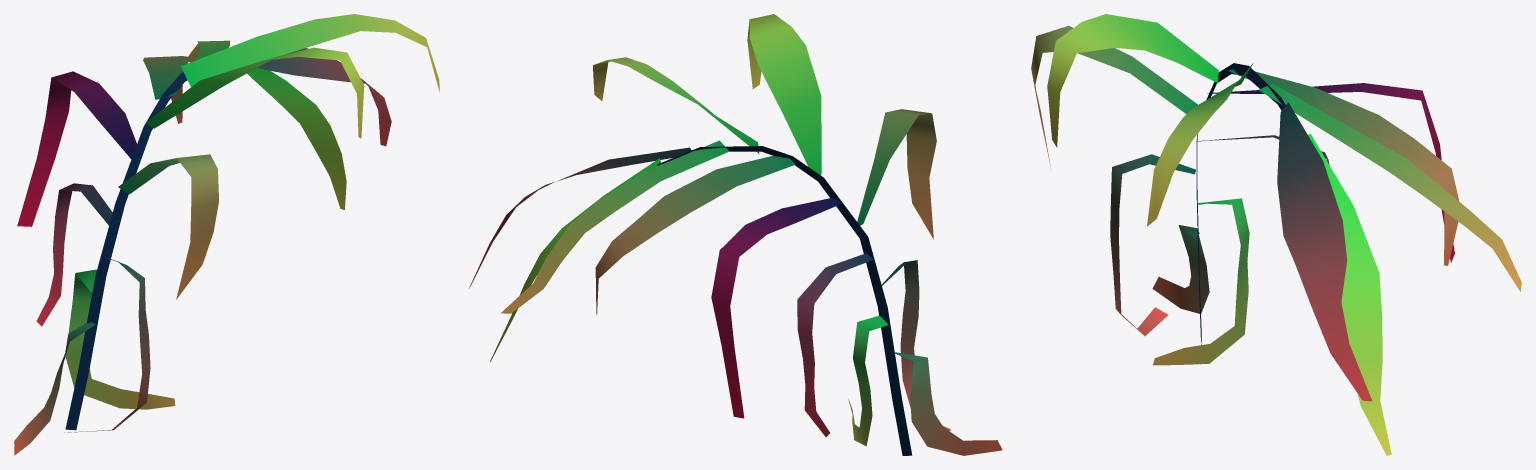
File: Ginger_Plant_sgbmM_Low_sgbmM_VarC_LOD0.fbx
The picture shows the model from 3 angles, left to right: view 1: azimuth 30°, elevation 25°; view 2: azimuth 150°, elevation 25°; view 3: azimuth 270°, elevation 25°; orthographic projection. The views are drawn at different scales.
Parts seen in each view (by area): view 1: _c9fe_VarC_LOD2; view 2: _c9fe_VarC_LOD2; view 3: _c9fe_VarC_LOD2.
Boxes of the visible parts, box(x1,y1,x2,y2) form: _c9fe_VarC_LOD2: box(14, 14, 439, 455); _c9fe_VarC_LOD2: box(469, 14, 1002, 455); _c9fe_VarC_LOD2: box(1031, 14, 1521, 455).
Size of the model in its own units: 86.7 by 66.03 by 70.27.
